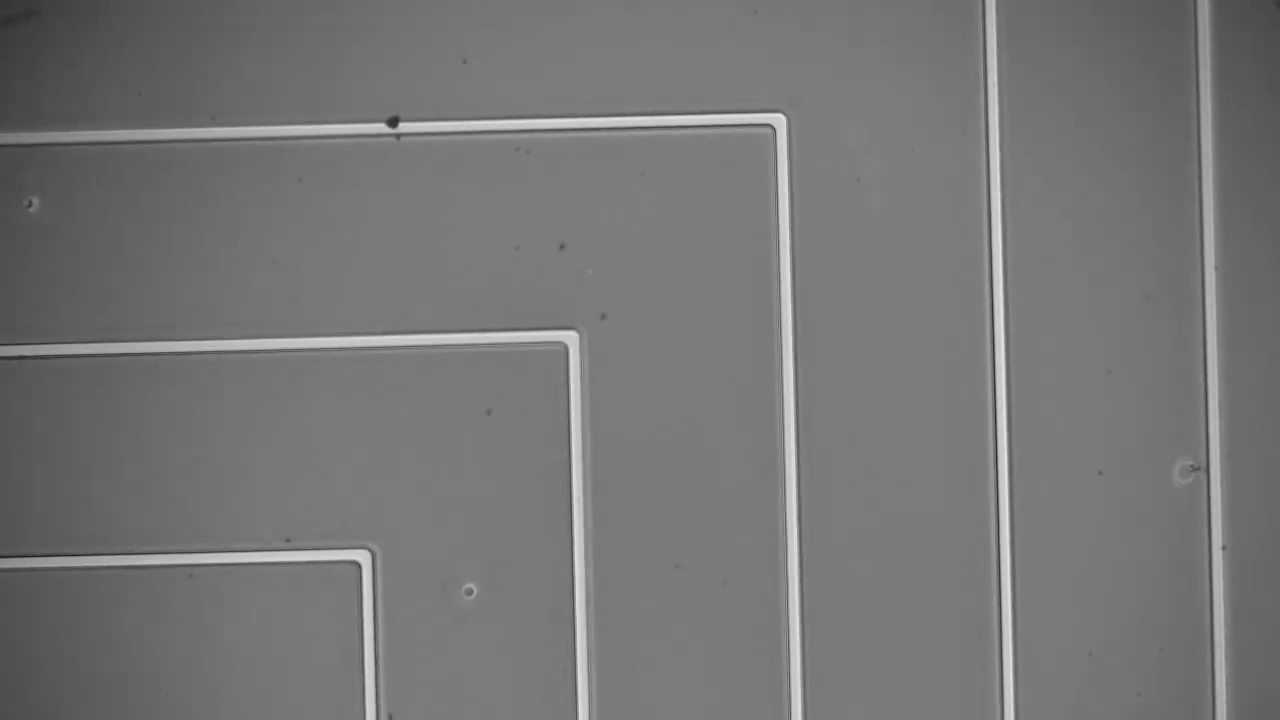stains_enbedded: (379, 103, 410, 149)
